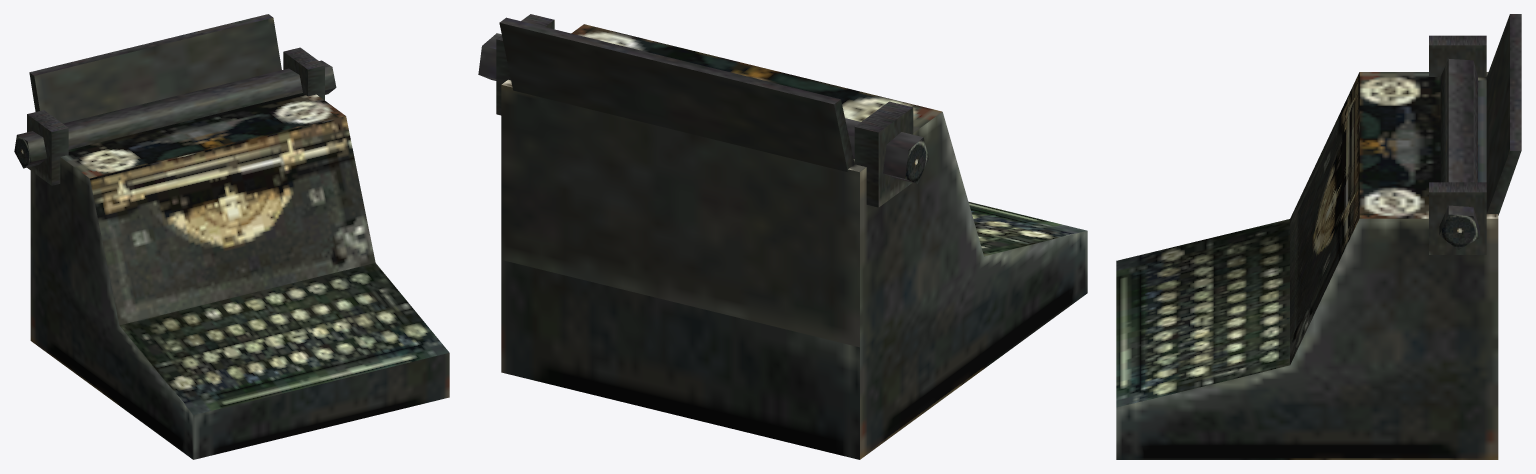
Rendered from typewriter_old.fbx.
The picture shows the model from 3 angles, left to right: view 1: azimuth 30°, elevation 25°; view 2: azimuth 150°, elevation 25°; view 3: azimuth 270°, elevation 25°; orthographic projection. The views are drawn at different scales.
Parts seen in each view (by area): view 1: mesh_0, mesh_2, mesh_1, mesh_3, mesh_4; view 2: mesh_0, mesh_2, mesh_3, mesh_1, mesh_4; view 3: mesh_0, mesh_1, mesh_2, mesh_4, mesh_3.
Part boxes in pixels (bbox=[...]): mesh_0: bbox=[30, 93, 449, 459]; mesh_2: bbox=[29, 14, 281, 123]; mesh_1: bbox=[14, 60, 336, 168]; mesh_3: bbox=[27, 110, 68, 185]; mesh_4: bbox=[283, 47, 324, 100]; mesh_0: bbox=[501, 24, 1087, 459]; mesh_2: bbox=[499, 17, 854, 171]; mesh_3: bbox=[854, 101, 913, 207]; mesh_1: bbox=[478, 33, 928, 183]; mesh_4: bbox=[496, 14, 554, 115]; mesh_0: bbox=[1116, 72, 1498, 459]; mesh_1: bbox=[1439, 59, 1479, 249]; mesh_2: bbox=[1486, 14, 1521, 215]; mesh_4: bbox=[1429, 182, 1486, 254]; mesh_3: bbox=[1429, 35, 1486, 76].
Bounding box in the file's own units: 35.7 × 29 × 35.
1 material, 1 textured.
